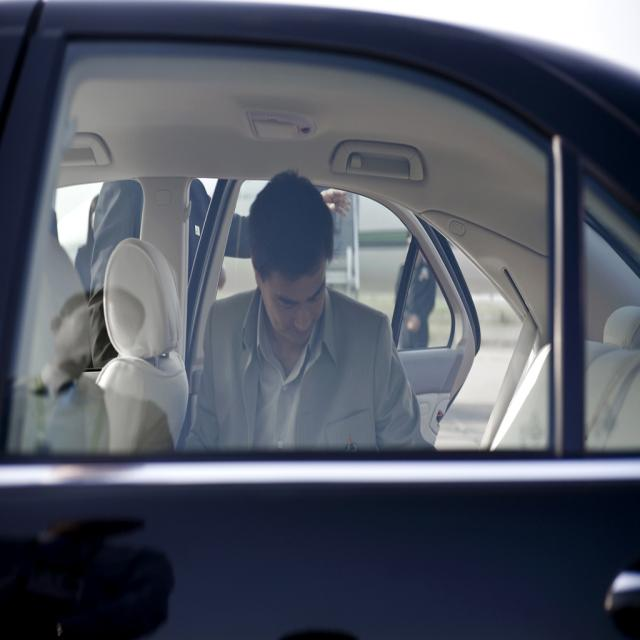car: (0, 1, 625, 578)
